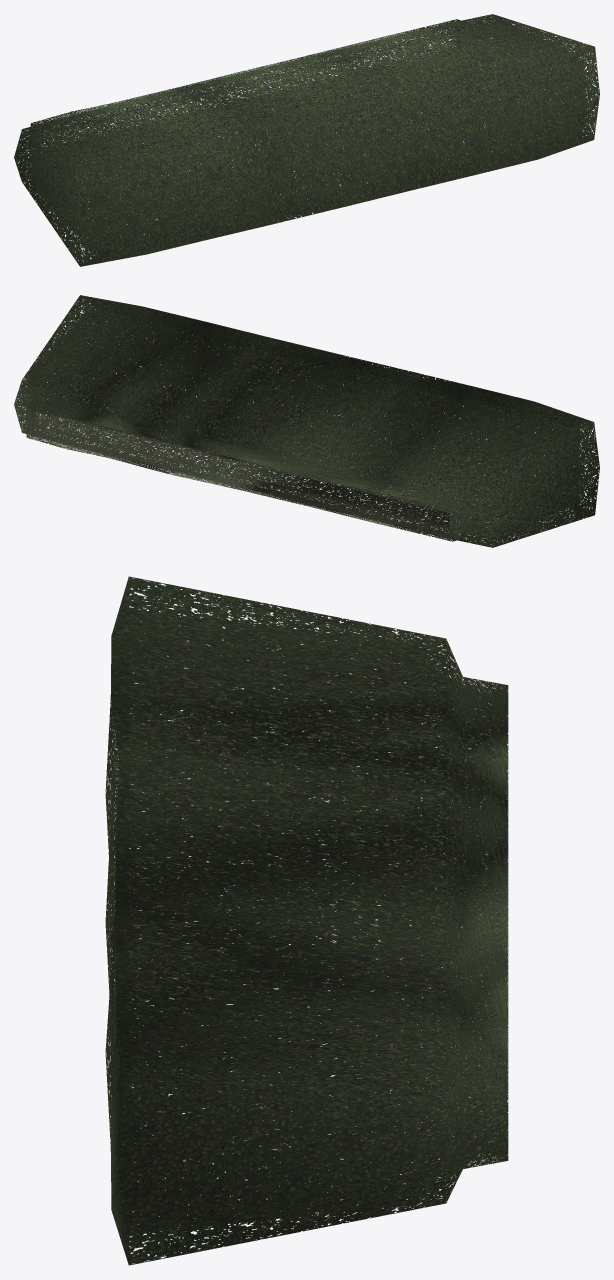
Rendered from nt_2020_foliage_hedge_boxy_2_set_LOD2.obj.
3 renders of one model, top to bottom at view 1: azimuth 30°, elevation 25°; view 2: azimuth 150°, elevation 25°; view 3: azimuth 270°, elevation 25°, orthographic. The views are drawn at different scales.
Visible parts, largest first — view 1: mtl_p6_foliage_hedge2, mtl_p6_foliage_hedge_no_alpha, mtl_p6_foliage_hedge_edge; view 2: mtl_p6_foliage_hedge2, mtl_p6_foliage_hedge_no_alpha, mtl_p6_foliage_hedge_edge; view 3: mtl_p6_foliage_hedge2, mtl_p6_foliage_hedge_no_alpha, mtl_p6_foliage_hedge_edge.
Boxes of the visible parts, x1,y1,x2,y2 form: mtl_p6_foliage_hedge2: (14,14,599,266); mtl_p6_foliage_hedge_no_alpha: (31,20,586,250); mtl_p6_foliage_hedge_edge: (81,47,592,266); mtl_p6_foliage_hedge2: (14,295,599,547); mtl_p6_foliage_hedge_no_alpha: (27,309,578,540); mtl_p6_foliage_hedge_edge: (85,296,592,514); mtl_p6_foliage_hedge2: (105,576,508,1265); mtl_p6_foliage_hedge_no_alpha: (117,612,506,1234); mtl_p6_foliage_hedge_edge: (111,582,129,1262).
Bounding box in the file's own units: 687 × 124 × 230.
